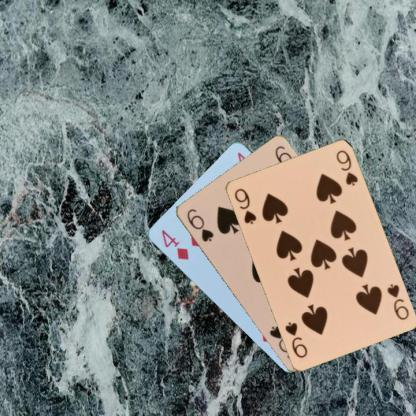4d: (158, 227, 190, 261)
6s: (184, 206, 215, 243)
9s: (231, 186, 258, 226), (384, 281, 410, 321)
